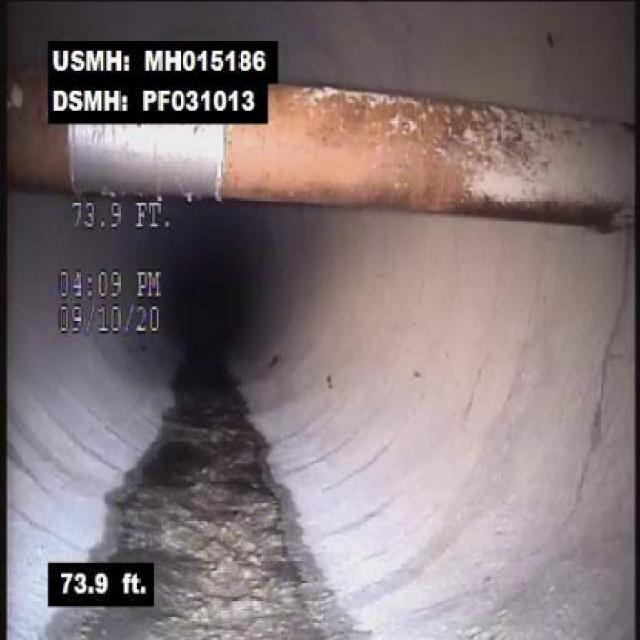Crack: (556, 234, 632, 523)
Utility intrusion: (3, 70, 634, 232)
